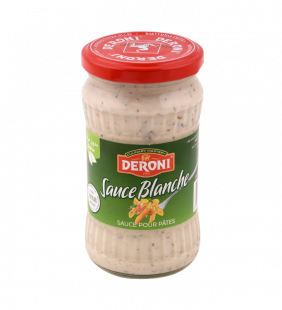Promotion: (75, 26, 210, 284)
